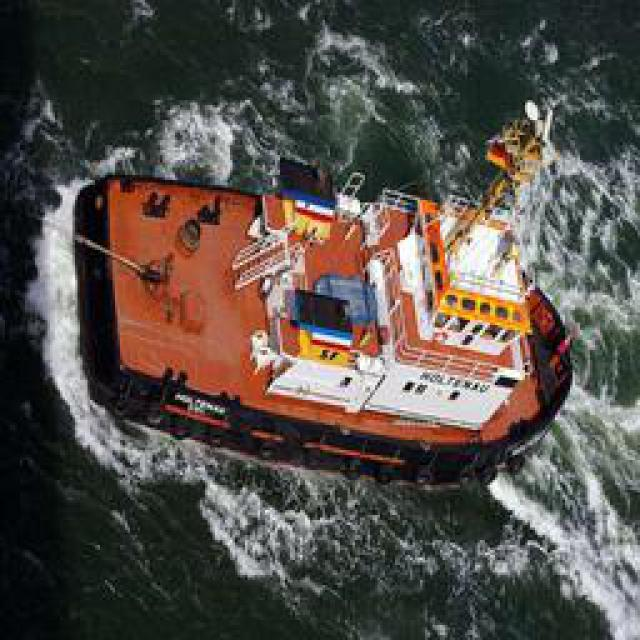Ship: (70, 99, 586, 493)
